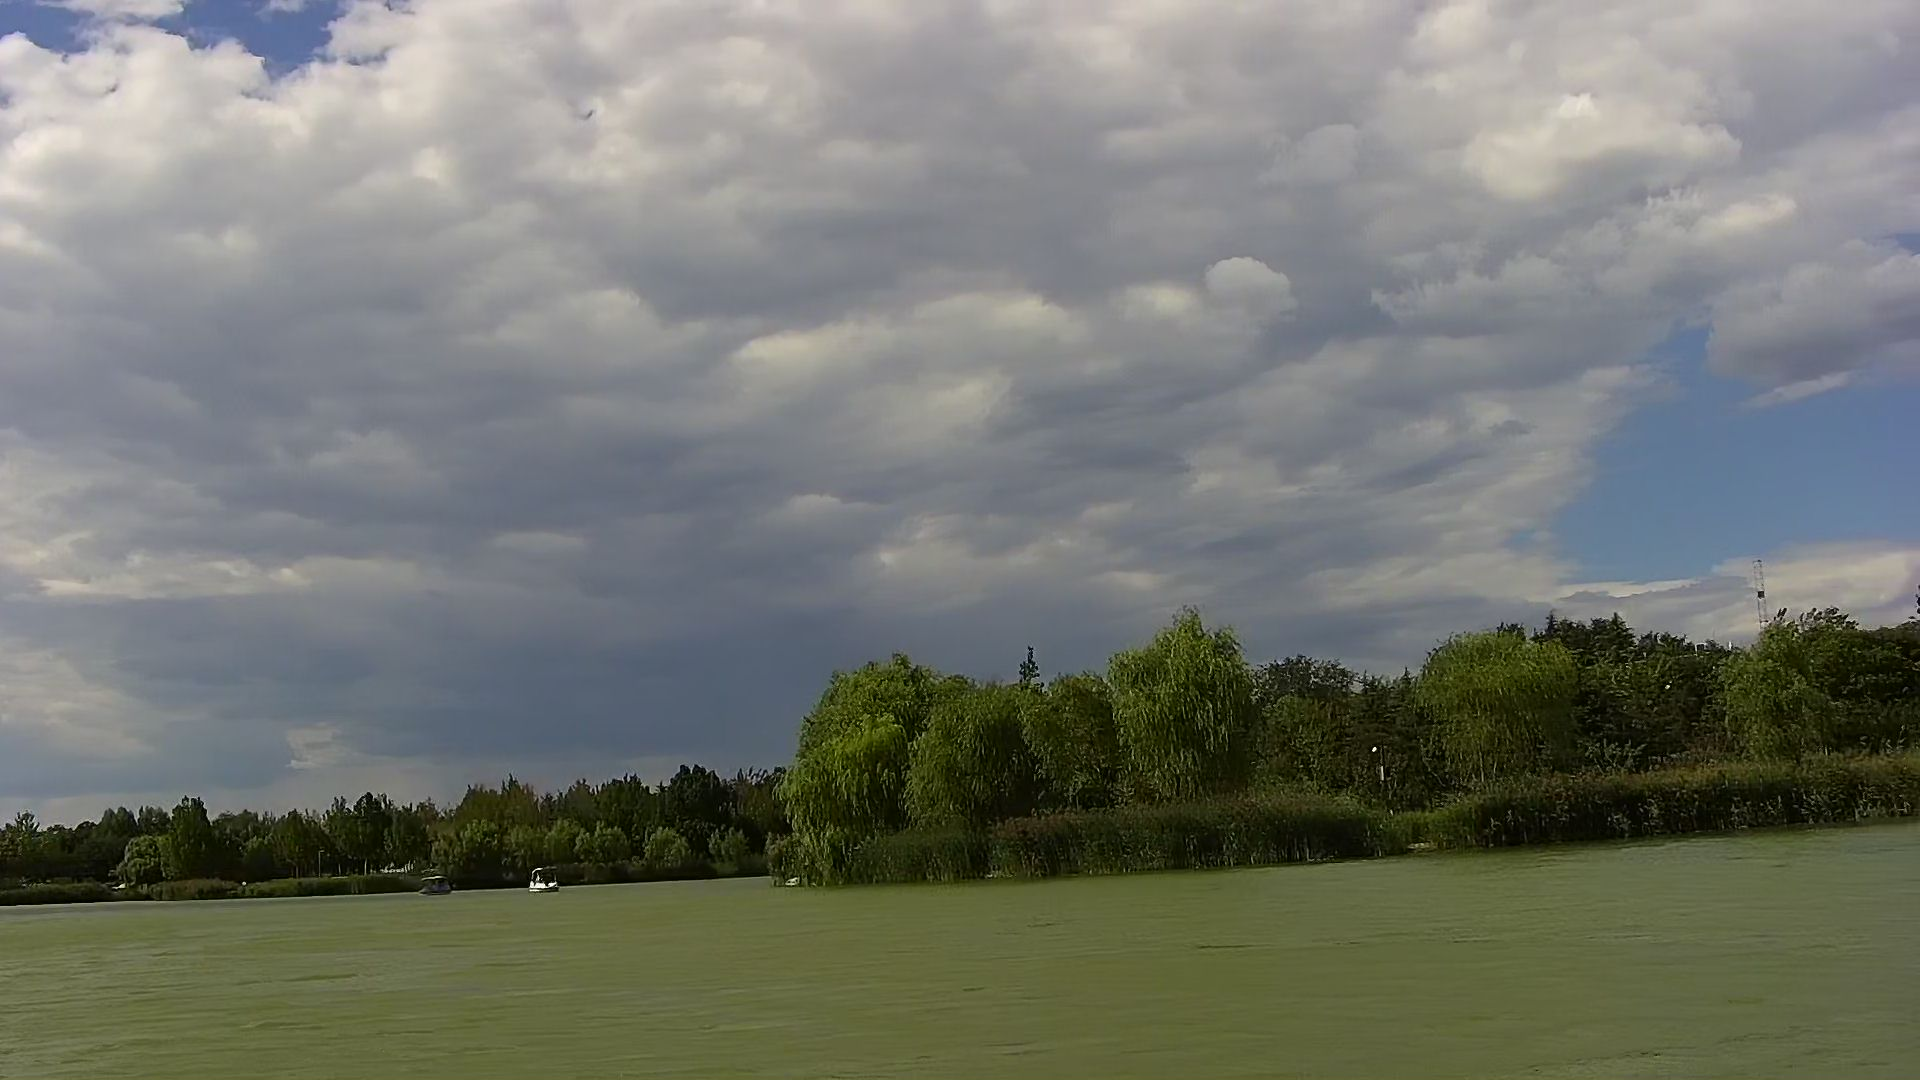boat: (526, 862, 566, 897), (415, 876, 455, 897)
